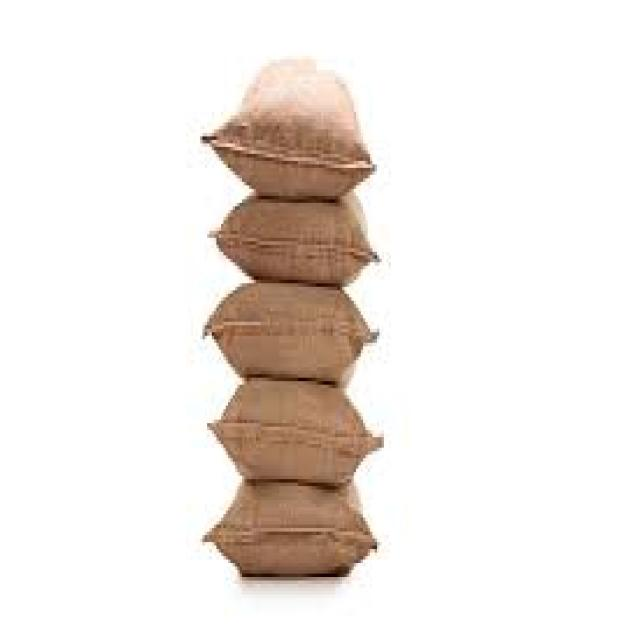sack: (207, 57, 378, 201), (205, 378, 387, 492), (202, 279, 380, 386), (198, 477, 380, 578), (208, 188, 380, 285)
